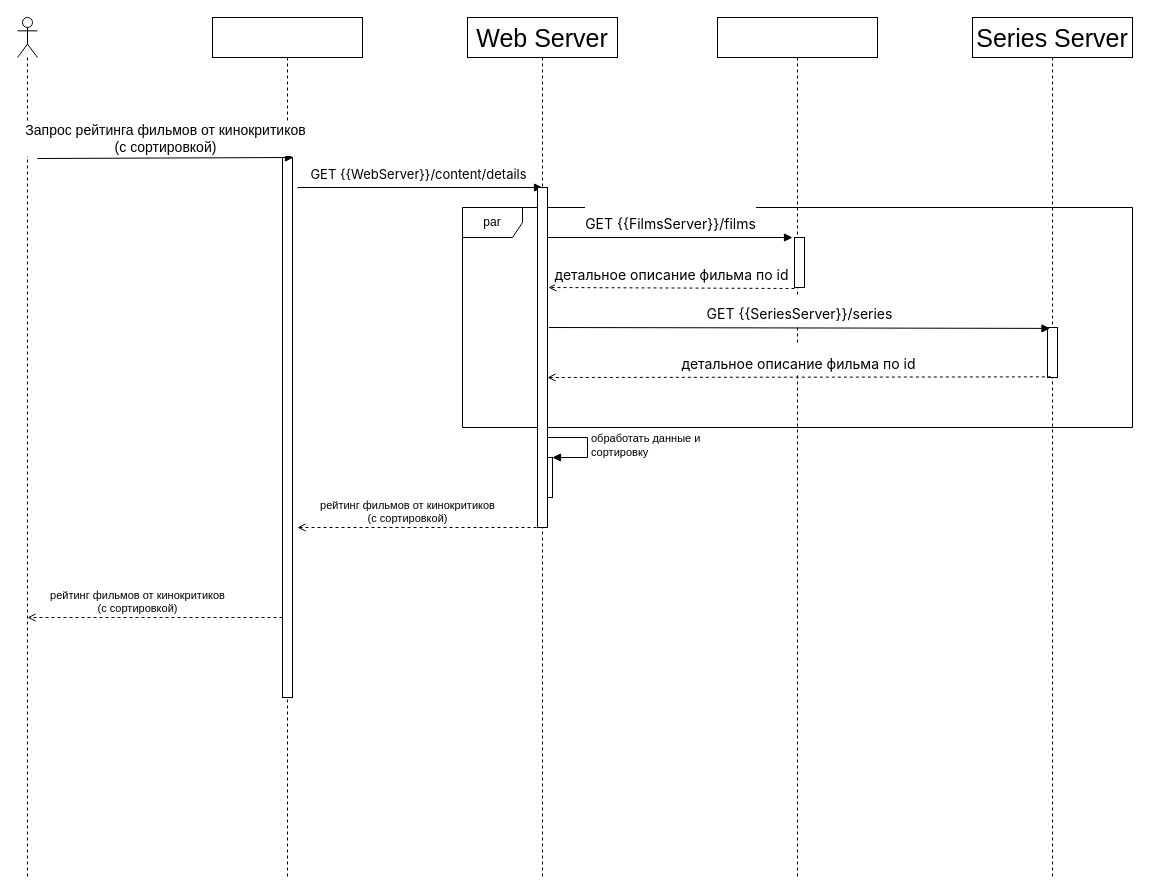
This 1150x895 diagram has some shape labels left out. Here are the shapes that lost their labels. From the top down, the box of each, then its label:
(212, 16, 362, 878): UI: Otium
(716, 16, 878, 878): Films Server
